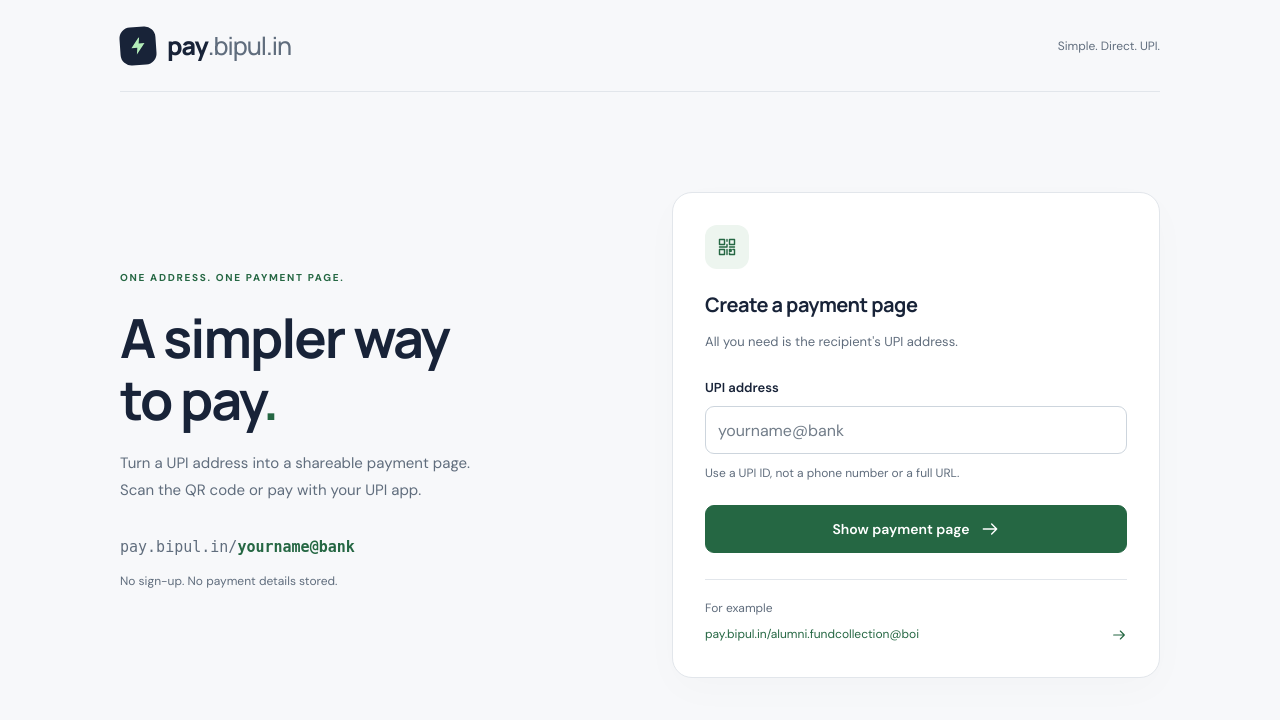
it: UPI address homepage › rejects invalid input  without creating a QR or navigating
The width and height of the screenshot is (1280, 720).
Click the button "Show payment page" at (916, 530), box [705,506,1127,554]
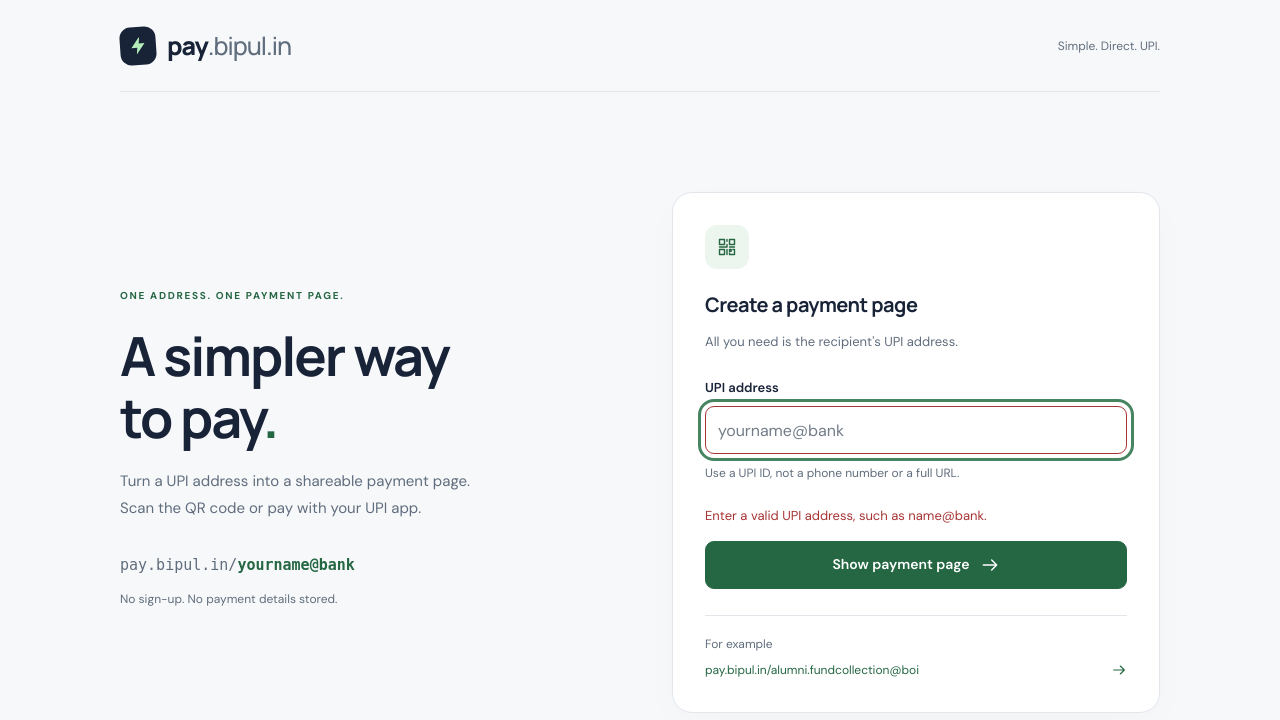
Now the message shows "Enter a valid UPI address", box [705,508,987,524]
